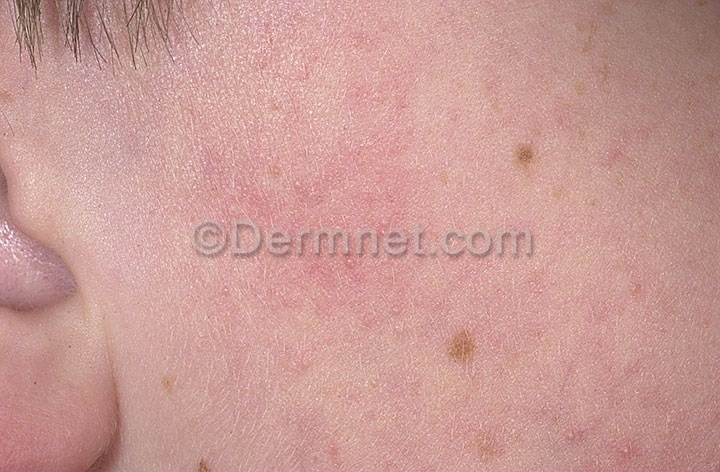Eczema: (97, 4, 518, 327), (197, 338, 642, 472), (546, 10, 718, 333)
